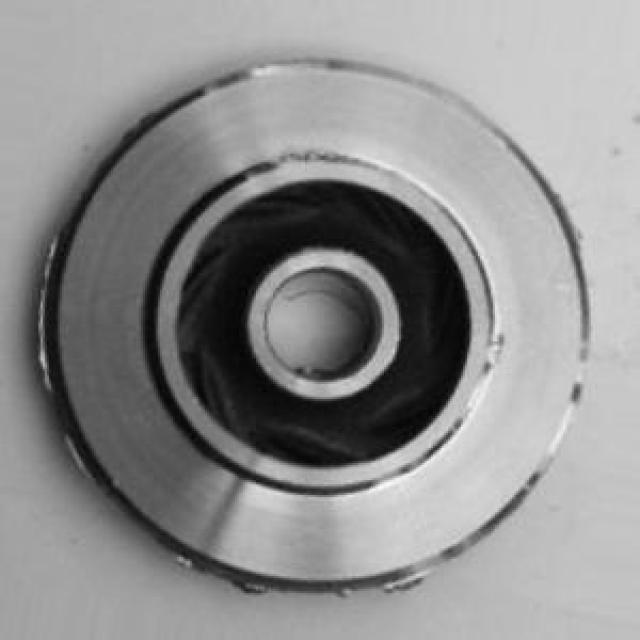Defect: (264, 132, 333, 179), (36, 234, 60, 287)
